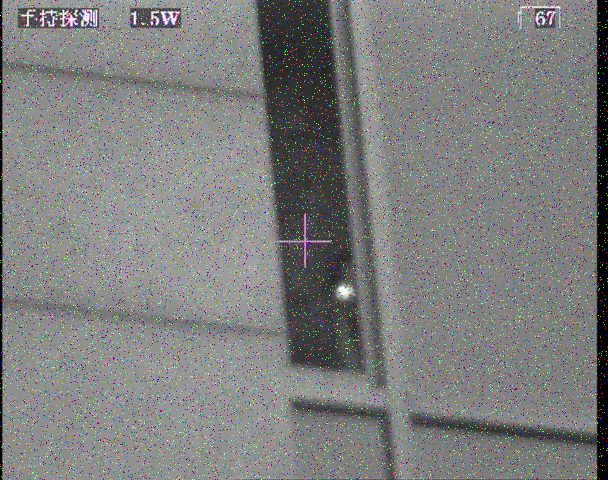my: (334, 283, 354, 300)
